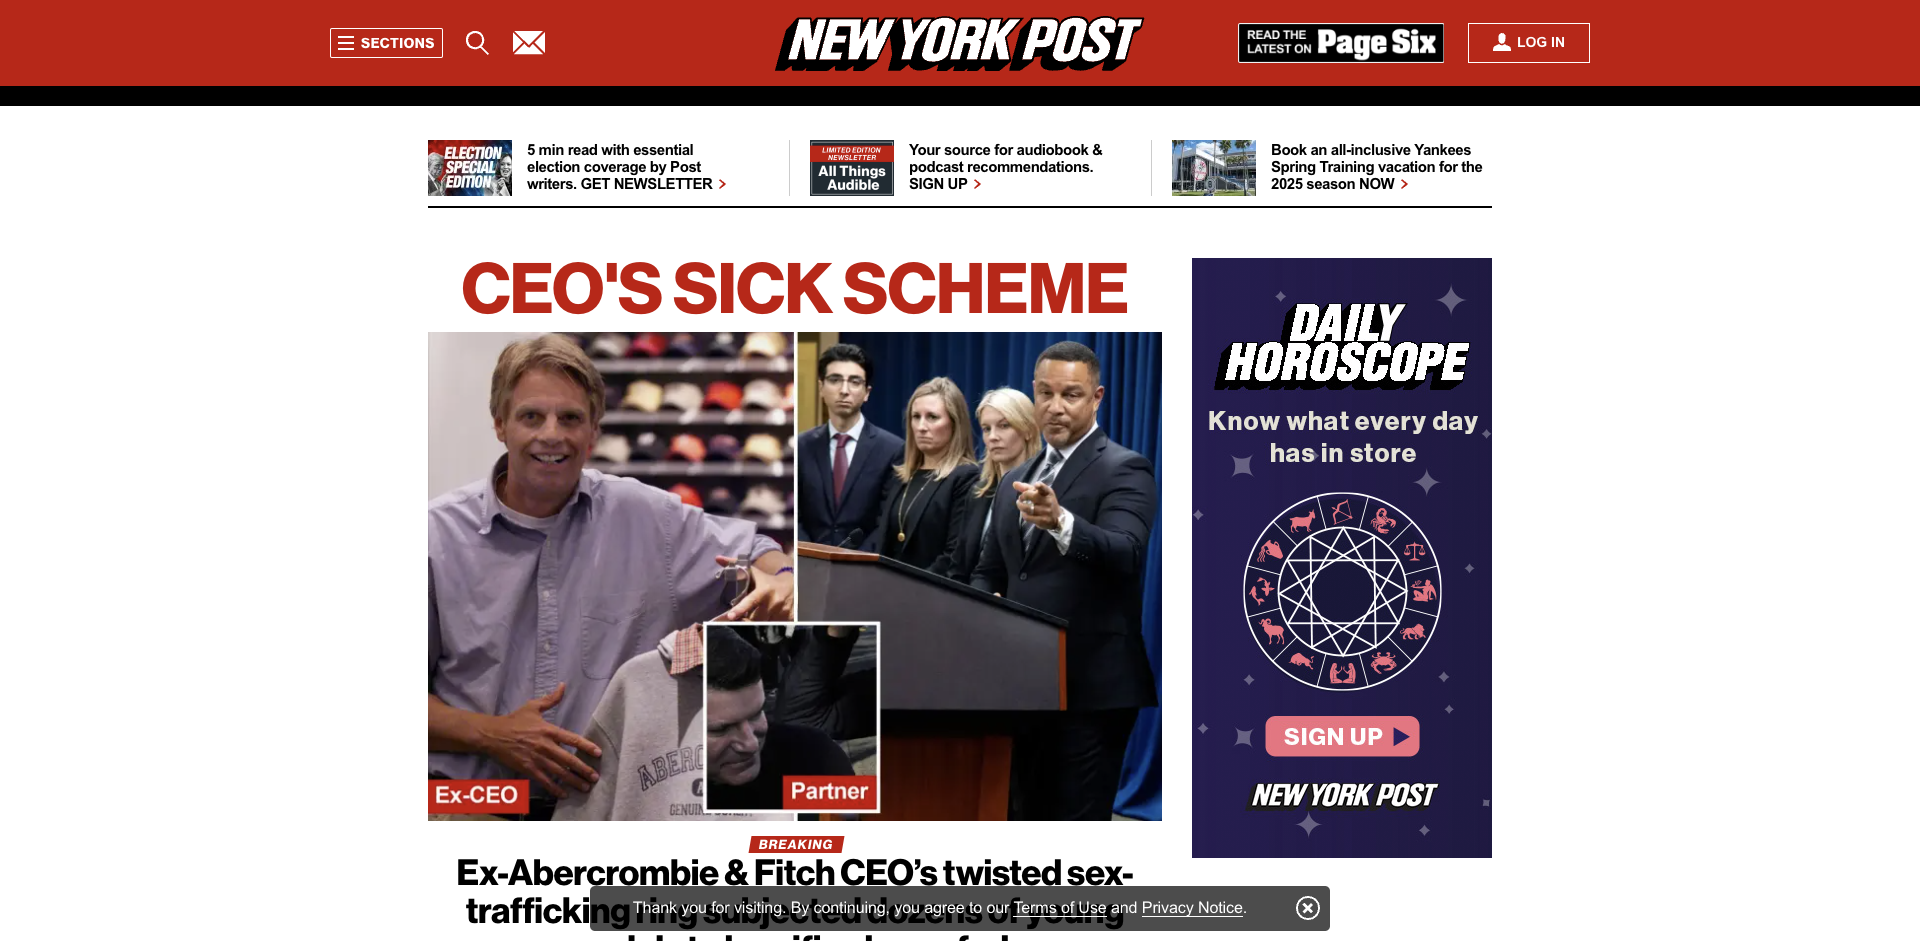button: (1468, 23, 1591, 62), (331, 28, 443, 58), (463, 28, 493, 58), (1517, 34, 1565, 50)
icon: (775, 16, 1145, 71), (719, 179, 726, 189), (1401, 179, 1408, 189), (975, 179, 981, 189)
link: (429, 332, 1162, 821), (457, 849, 1134, 941), (775, 16, 1145, 71), (429, 140, 749, 196), (1172, 140, 1491, 196), (811, 140, 1111, 196), (1238, 23, 1444, 62), (513, 29, 546, 56)
